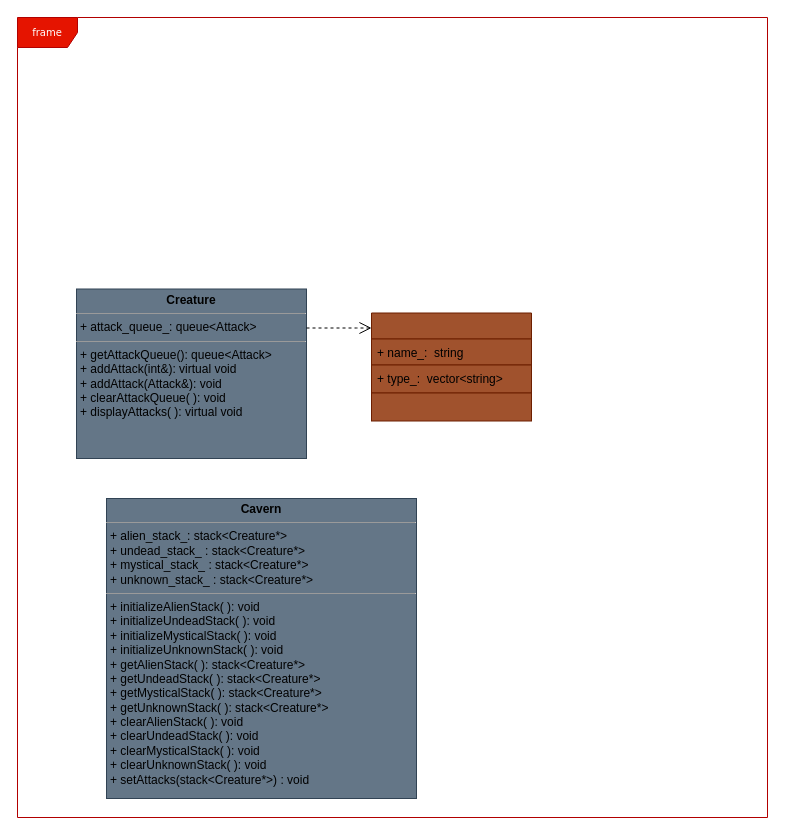
The diagram is 785 pixels wide and 835 high, and some of its shapes have lost their labels. The box of each missing label's shape, as (x1, y1, x2, y2) in pixels:
+ damage_ : vector<int>: (370, 392, 532, 421)
Attack: (370, 312, 532, 393)
